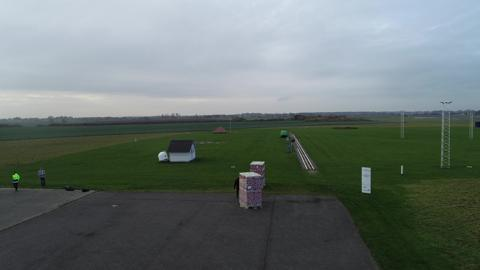RockwoolPallet: (250, 159, 267, 175)
